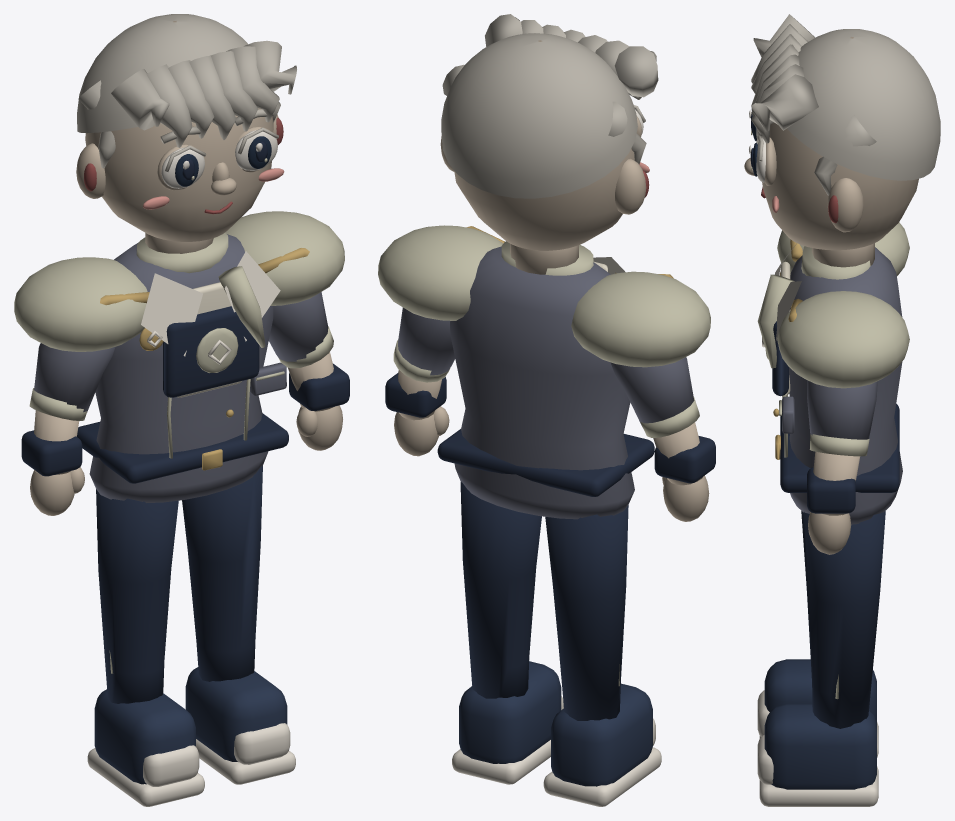
Rendered from grave_character_skeleton.glb.
The picture shows the model from 3 angles, left to right: view 1: azimuth 30°, elevation 25°; view 2: azimuth 150°, elevation 25°; view 3: azimuth 270°, elevation 25°; orthographic projection.
Parts seen in each view (by area): view 1: figure.010; view 2: figure.010; view 3: figure.010.
Boxes of the visible parts, x1,y1,x2,y2 form: figure.010: (14, 14, 349, 806); figure.010: (378, 14, 715, 806); figure.010: (744, 14, 940, 806).
Bounding box in the file's own units: 1.12 × 2.5 × 0.6061.
